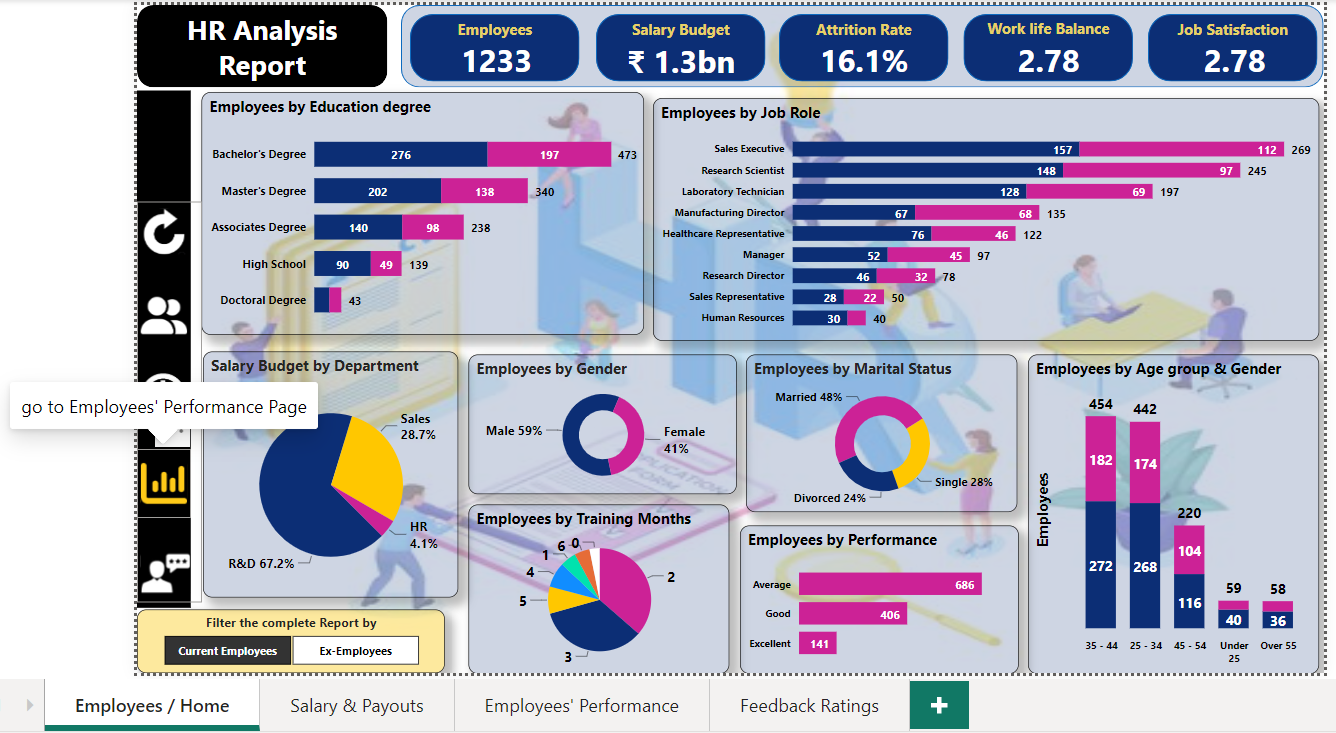

The page's visual inventory and layout, read from the dashboard file:
{"tool":"powerbi","page":{"name":"Employees / Home","canvas":[1280,720],"ordinal":0},"visuals":[{"type":"shape","title":"Report Title grp","box":[0,0,270.2,89],"z":0},{"type":"shape","title":"backgroung","box":[284.8,0,995.1,89],"z":0,"group":"g3"},{"type":"shape","box":[294.5,9.4,182.8,72.8],"z":0,"group":"g2"},{"type":"shape","box":[494.7,9.4,182.8,72.8],"z":0,"group":"g1"},{"type":"shape","box":[693.3,9.4,182.8,72.8],"z":0,"group":"g4"},{"type":"shape","box":[1090.6,9.4,182.8,72.8],"z":0,"group":"g5"},{"type":"shape","box":[891.9,10.2,182.8,72.8],"z":0,"group":"g7"},{"type":"actionButton","box":[0,212,58.2,64.7],"z":0,"group":"g8"},{"type":"pieChart","title":"Salary Budget by Department","fields":{"Category":["Employees.Department"],"Y":["Measures Table.#10 Salary Budget"]},"box":[70.5,372.3,275.1,265.3],"z":0,"group":"g6"},{"type":"textbox","box":[891.9,8.6,182.8,37.2],"z":1000,"group":"g7"},{"type":"textbox","box":[294.5,9.4,182.8,37.2],"z":1000,"group":"g2"},{"type":"group","id":"g1","title":"Group 1","box":[494.7,9.4,182.8,72.8],"z":1000,"group":"g3"},{"type":"textbox","box":[494.7,9.4,182.8,37.2],"z":1000,"group":"g1"},{"type":"textbox","box":[693.3,9.4,182.8,37.2],"z":1000,"group":"g4"},{"type":"textbox","box":[1090.6,9.4,182.8,37.2],"z":1000,"group":"g5"},{"type":"shape","box":[0,92.2,58.2,558.2],"z":1000},{"type":"actionButton","box":[0,305.8,58.2,58.2],"z":1000,"group":"g8"},{"type":"columnChart","title":"Employees by Age group & Gender","fields":{"Category":["Employees.Age Group"],"Y":["Measures Table.#1 Total Employees"],"Series":["Employees.Gender"]},"box":[960.4,375.5,313.9,344.6],"z":1000,"group":"g6"},{"type":"group","id":"g2","title":"Group 2","box":[294.5,9.4,184.4,72.8],"z":2000,"group":"g3"},{"type":"card","title":"card","fields":{"Values":["Measures Table.#1 Total Employees"]},"box":[296.1,35.3,182.8,46.9],"z":2000,"group":"g2"},{"type":"card","title":"card","fields":{"Values":["Measures Table.#5 Attrition Rate"]},"box":[693.3,35.3,182.8,46.9],"z":2000,"group":"g4"},{"type":"card","title":"card","fields":{"Values":["Measures Table.#7 Rating Job Satisfaction"]},"box":[1092.2,35.3,182.8,46.9],"z":2000,"group":"g5"},{"type":"card","title":"card","fields":{"Values":["Measures Table.#9 Rating Work life Balance"]},"box":[891.9,36.1,182.8,46.9],"z":2000,"group":"g7"},{"type":"card","title":"card","fields":{"Values":["Measures Table.#10 Salary Budget"]},"box":[494.7,38.5,182.8,43.7],"z":2000,"group":"g1"},{"type":"barChart","title":"Employees by Education degree","fields":{"Category":["Employees.Education"],"Y":["Measures Table.#1 Total Employees"],"Series":["Employees.Gender"]},"box":[69.4,93.1,477.3,262.1],"z":2000,"group":"g6"},{"type":"actionButton","box":[0,393.2,58.2,56.6],"z":2000,"group":"g8"},{"type":"slicer","title":"Filter the complete Report by","fields":{"Values":["Employees.attrition label"]},"box":[0,651.7,331.7,68.3],"z":2000},{"type":"group","id":"g3","title":"KPIs #group","box":[284.8,0,995.1,89],"z":3000},{"type":"group","id":"g4","title":"Group 3","box":[693.3,9.4,182.8,72.8],"z":3000,"group":"g3"},{"type":"donutChart","title":"Employees by Gender ","fields":{"Category":["Employees.Gender"],"Y":["Measures Table.#1 Total Employees"]},"box":[356.9,375.5,289.6,150.5],"z":3000,"group":"g6"},{"type":"actionButton","box":[0,479,58.2,74.4],"z":3000,"group":"g8"},{"type":"group","id":"g5","title":"Group 4","box":[1090.6,9.4,184.4,72.8],"z":4000,"group":"g3"},{"type":"group","id":"g6","title":"All charts #group","box":[69.4,93.1,1204.9,627],"z":4000},{"type":"donutChart","title":"Employees by Marital Status","fields":{"Y":["Measures Table.#1 Total Employees"],"Category":["Salary & Payouts.Marital Status"]},"box":[657.3,375.5,292.9,169.9],"z":4000,"group":"g6"},{"type":"actionButton","box":[0,582.5,69.6,61.5],"z":4000,"group":"g8"},{"type":"group","id":"g7","title":"Group 5","box":[891.9,8.6,182.8,74.4],"z":5000,"group":"g3"},{"type":"group","id":"g8","title":"Group 6","box":[0,212,69.6,432],"z":5000},{"type":"pieChart","title":"Employees by Training Months","fields":{"Category":["Salary & Payouts.Training Times Last Year (Months)"],"Y":["Measures Table.#1 Total Employees"]},"box":[356.9,537.3,281.5,182.8],"z":5000,"group":"g6"},{"type":"barChart","title":"Employees by Job Role","fields":{"Y":["Measures Table.#1 Total Employees"],"Series":["Employees.Gender"],"Category":["Employees.Job Role"]},"box":[555.9,98.8,718.4,262.1],"z":6000,"group":"g6"},{"type":"barChart","fields":{"Category":["Salary & Payouts.Performance"],"Y":["Measures Table.#1 Total Employees"]},"box":[649.7,560,300.9,160.2],"z":7000,"group":"g6"}]}

Visuals, with their boxes on the page's 1280x720 design canvas (x1, y1, x2, y2). These are canvas units, not pixel positions in the 1336x733 screenshot, which may show the page scaled, cropped or inside an application window:
"Report Title grp" shape: 0:0:270:89
"backgroung" shape: 285:0:1280:89
shape: 294:9:477:82
shape: 495:9:678:82
shape: 693:9:876:82
shape: 1091:9:1273:82
shape: 892:10:1075:83
actionButton: 0:212:58:277
"Salary Budget by Department" pieChart: 70:372:346:638
textbox: 892:9:1075:46
textbox: 294:9:477:47
"Group 1" group: 495:9:678:82
textbox: 495:9:678:47
textbox: 693:9:876:47
textbox: 1091:9:1273:47
shape: 0:92:58:650
actionButton: 0:306:58:364
"Employees by Age group & Gender" columnChart: 960:376:1274:720
"Group 2" group: 294:9:479:82
"card" card: 296:35:479:82
"card" card: 693:35:876:82
"card" card: 1092:35:1275:82
"card" card: 892:36:1075:83
"card" card: 495:38:678:82
"Employees by Education degree" barChart: 69:93:547:355
actionButton: 0:393:58:450
"Filter the complete Report by" slicer: 0:652:332:720
"KPIs #group" group: 285:0:1280:89
"Group 3" group: 693:9:876:82
"Employees by Gender " donutChart: 357:376:646:526
actionButton: 0:479:58:553
"Group 4" group: 1091:9:1275:82
"All charts #group" group: 69:93:1274:720
"Employees by Marital Status" donutChart: 657:376:950:545
actionButton: 0:582:70:644
"Group 5" group: 892:9:1075:83
"Group 6" group: 0:212:70:644
"Employees by Training Months" pieChart: 357:537:638:720
"Employees by Job Role" barChart: 556:99:1274:361
barChart - Salary & Payouts.Performance x Measures Table.#1 Total Employees: 650:560:951:720
